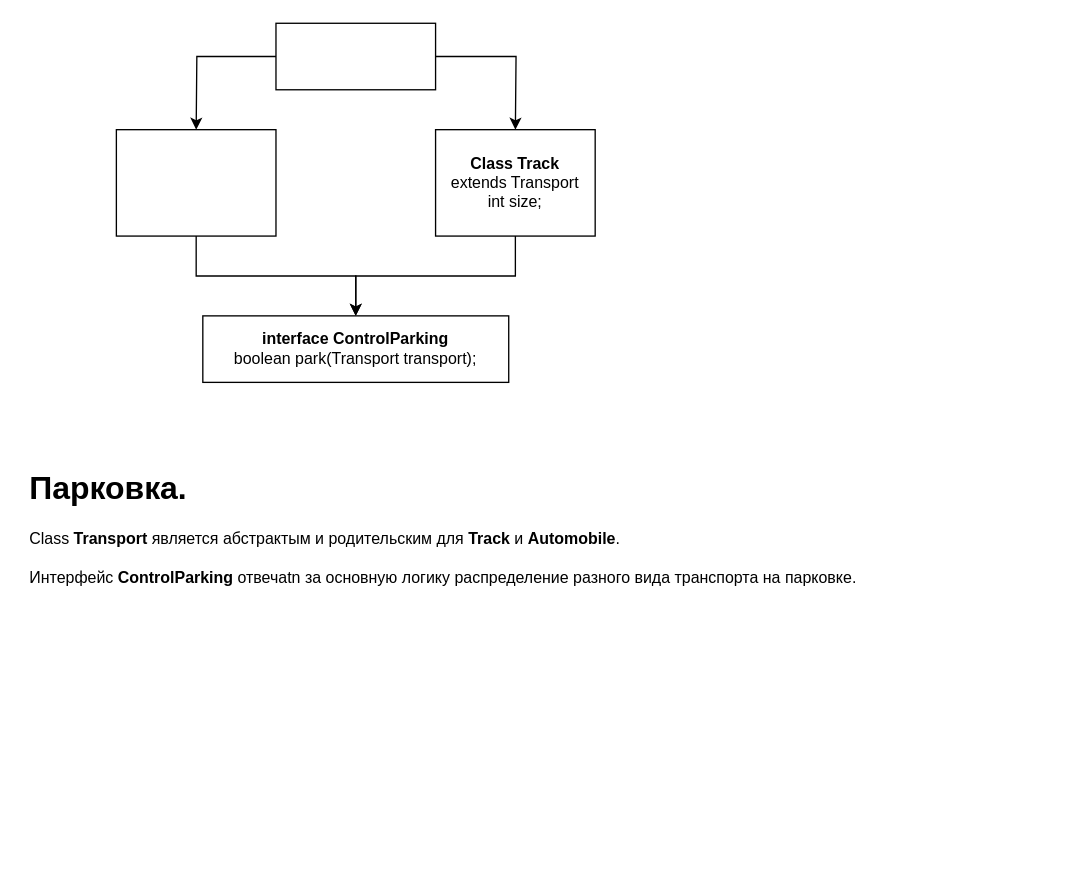
Some shapes in this 1069 by 878 pixel diagram are drawn without their labels. Here are the shapes that lost their labels. From the top down, the centre of each, then its label:
At (x=355, y=56): "Abstract Class Transport".
At (x=195, y=182): "Class Automobile extends Transport int size;".
